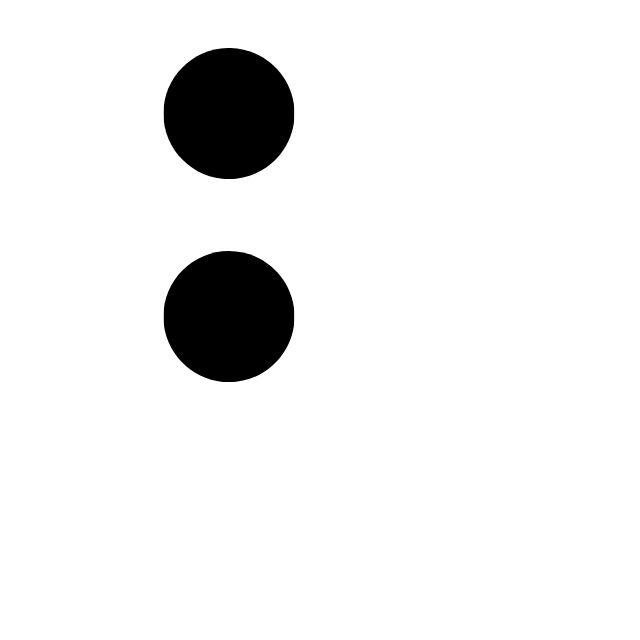b: (164, 46, 482, 546)
